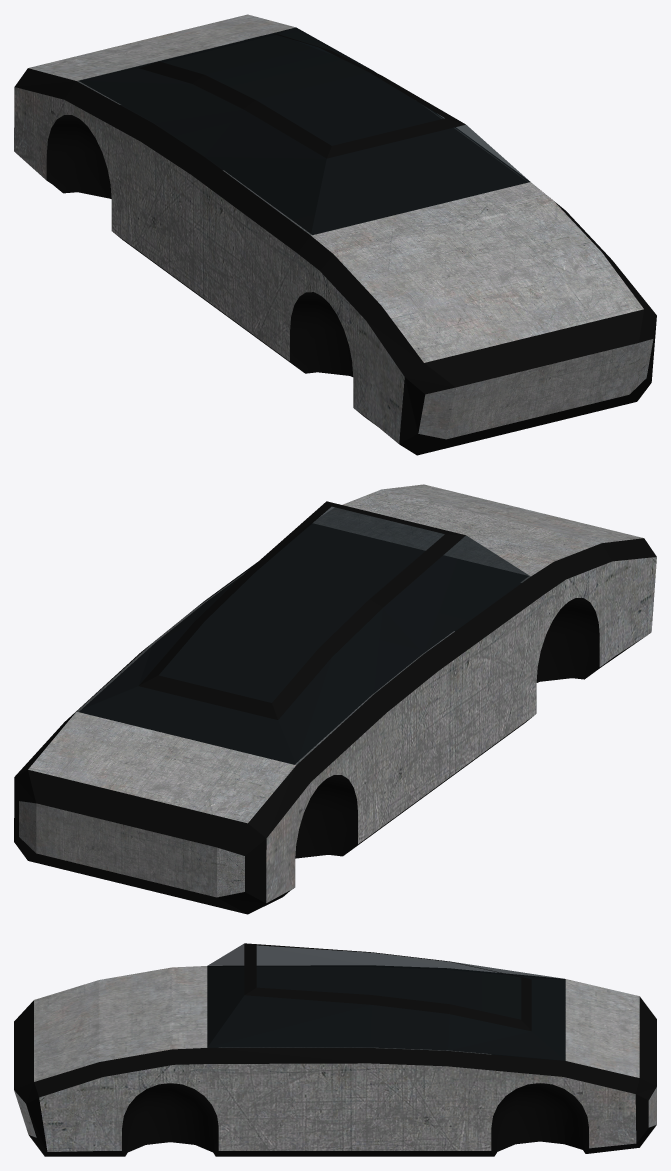
The model's file is car.obj.
3 views of the same model, one above another, from view 1: azimuth 30°, elevation 25°; view 2: azimuth 150°, elevation 25°; view 3: azimuth 270°, elevation 25° (orthographic). The views are drawn at different scales.
Visible parts, largest first — view 1: CarPanel, CarWindow, CarInterior, CarFrame; view 2: CarPanel, CarWindow, CarInterior, CarFrame; view 3: CarPanel, CarFrame, CarWindow, CarInterior.
Part boxes in pixels (x1,y1,x2,y2): CarPanel: (14,14,653,443); CarWindow: (77,27,530,235); CarInterior: (79,28,527,234); CarFrame: (14,27,656,455); CarPanel: (19,484,656,902); CarWindow: (77,506,530,764); CarInterior: (79,523,528,764); CarFrame: (14,501,656,914); CarPanel: (14,966,656,1151); CarFrame: (14,943,656,1156); CarWindow: (207,944,565,1060); CarInterior: (207,967,565,1060).
Bounding box in the file's own units: 57.35 × 42.34 × 165.
